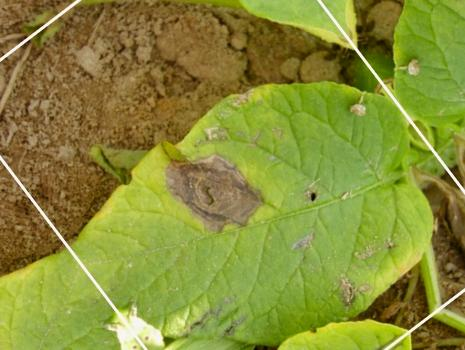Tomato Early blight leaf: (50, 9, 465, 350)
